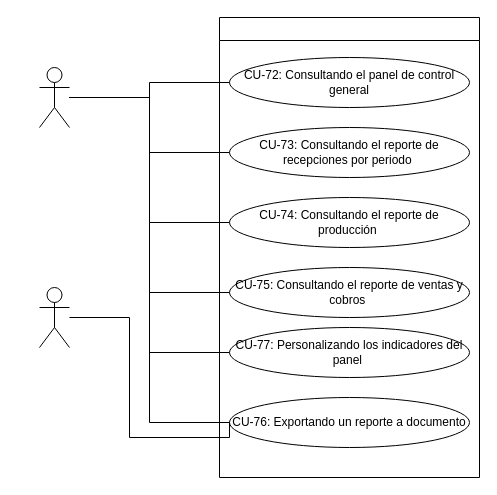
Some shapes in this 497 by 495 pixel diagram are drawn without their labels. The shapes that lost their labels are listed below. From the top down, each one's box as (x1, y1, x2, y2) in pixels, then its label:
(38, 66, 70, 128): Administrador
(218, 16, 480, 478): Modulo 10: Reportes y panel de control
(38, 286, 70, 348): Sistema
